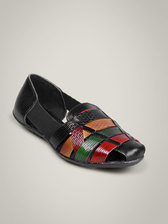shoes: (7, 73, 155, 172)
